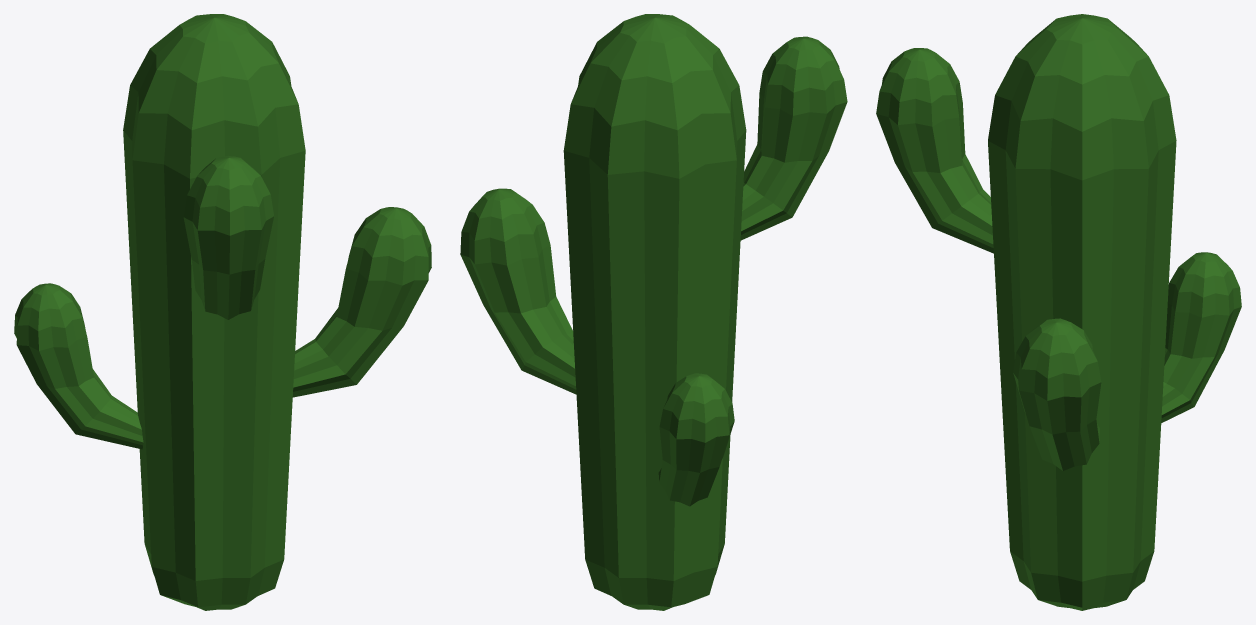
The model's file is Cactus_17_A.fbx.
3 renders of one model, left to right at view 1: azimuth 30°, elevation 25°; view 2: azimuth 150°, elevation 25°; view 3: azimuth 270°, elevation 25°, orthographic.
Parts seen in each view (by area): view 1: Cactus_17_A; view 2: Cactus_17_A; view 3: Cactus_17_A.
Part boxes in pixels (left/top/right/bottom): Cactus_17_A: left=14, top=14, right=431, bottom=610; Cactus_17_A: left=460, top=14, right=847, bottom=610; Cactus_17_A: left=876, top=14, right=1241, bottom=610.
Bounding box in the file's own units: 144 × 237 × 136.
